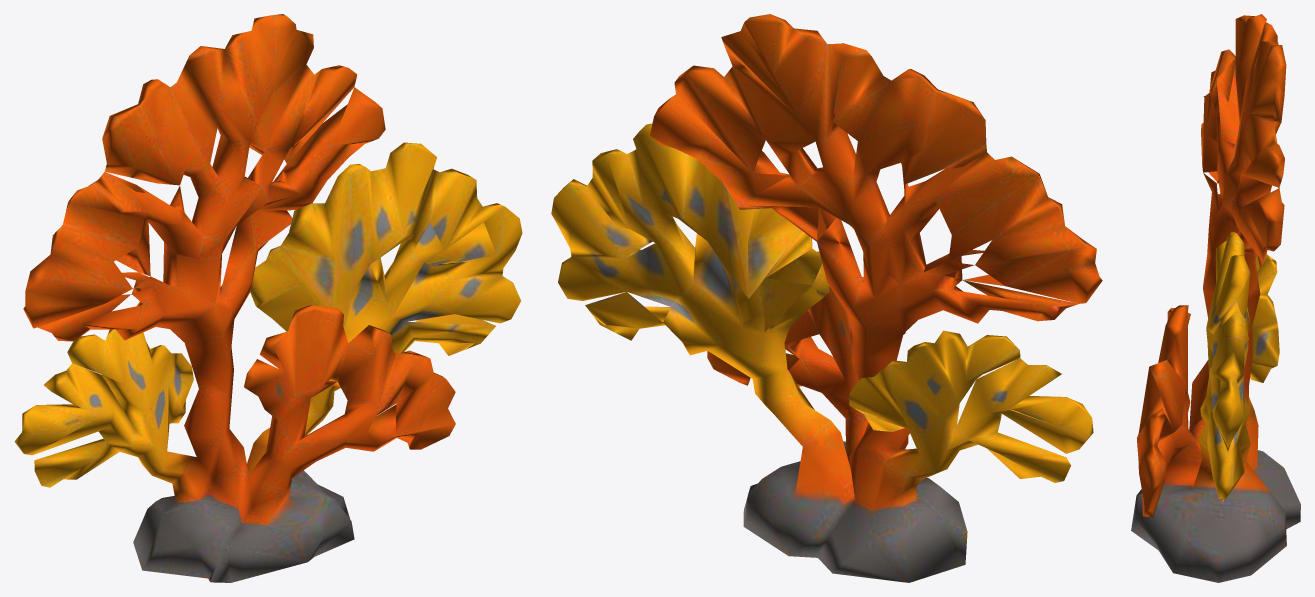
Rendered from coral3.glb.
3 renders of one model, left to right at view 1: azimuth 30°, elevation 25°; view 2: azimuth 150°, elevation 25°; view 3: azimuth 270°, elevation 25°, orthographic. The views are drawn at different scales.
Parts seen in each view (by area): view 1: geometry_0; view 2: geometry_0; view 3: geometry_0.
Boxes of the visible parts, bbox=[...] form: geometry_0: bbox=[14, 14, 522, 582]; geometry_0: bbox=[551, 14, 1102, 582]; geometry_0: bbox=[1131, 14, 1300, 582].
Bounding box in the file's own units: 0.9614 × 0.9058 × 0.274.
1 material, 1 textured.
